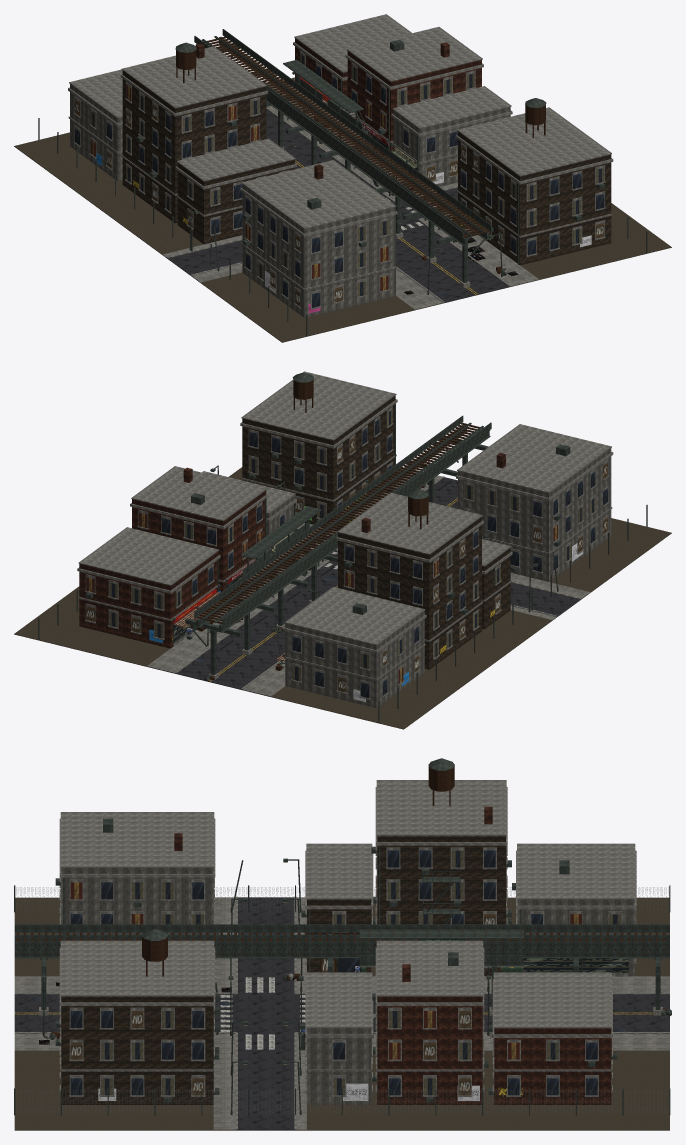
Rendered from ShackletonAve.fbx.
The picture shows the model from 3 angles, top to bottom: view 1: azimuth 30°, elevation 25°; view 2: azimuth 150°, elevation 25°; view 3: azimuth 270°, elevation 25°; orthographic projection. The views are drawn at different scales.
Parts seen in each view (by area): view 1: Bldg_GenericW, Bldg_GenericE, Bldg_Apartment2, Gnd_Lot, Rail_Deck, Bldg_BarberShop, Bldg_Bar, Bldg_Cafe, Gnd_Road, Bldg_Restaurant, Bldg_Supermarket, Gnd_CrossRoad (+7 smaller); view 2: Bldg_GenericW, Bldg_Apartment2, Bldg_GenericE, Gnd_Lot, Bldg_Restaurant, Bldg_Supermarket, Rail_Deck, Bldg_BarberShop, Gnd_Road, Bldg_Bar, Gnd_SidewalkEN, Rail_Platform (+7 smaller); view 3: Bldg_GenericE, Gnd_Lot, Bldg_Apartment2, Bldg_GenericW, Bldg_BarberShop, Rail_Deck, Bldg_Supermarket, Bldg_Restaurant, Gnd_CrossRoad, Bldg_Cafe, Gnd_Road, Bldg_Bar (+12 smaller).
Part boxes in pixels (x1=…): Bldg_GenericW: x1=240, y1=160, x2=397, y2=317; Bldg_GenericE: x1=456, y1=98, x2=613, y2=265; Bldg_Apartment2: x1=120, y1=42, x2=268, y2=223; Gnd_Lot: x1=14, y1=77, x2=671, y2=342; Rail_Deck: x1=194, y1=29, x2=493, y2=258; Bldg_BarberShop: x1=345, y1=27, x2=483, y2=170; Bldg_Bar: x1=175, y1=138, x2=296, y2=244; Bldg_Cafe: x1=384, y1=86, x2=512, y2=188; Gnd_Road: x1=266, y1=109, x2=509, y2=302; Bldg_Restaurant: x1=68, y1=69, x2=122, y2=180; Bldg_Supermarket: x1=286, y1=14, x2=411, y2=108; Gnd_CrossRoad: x1=167, y1=187, x2=457, y2=274; Bldg_GenericW: x1=456, y1=424, x2=613, y2=581; Bldg_Apartment2: x1=336, y1=489, x2=483, y2=669; Bldg_GenericE: x1=240, y1=371, x2=397, y2=524; Gnd_Lot: x1=14, y1=467, x2=671, y2=729; Bldg_Restaurant: x1=276, y1=587, x2=426, y2=708; Bldg_Supermarket: x1=77, y1=527, x2=220, y2=648; Rail_Deck: x1=185, y1=415, x2=491, y2=650; Bldg_BarberShop: x1=130, y1=466, x2=268, y2=595; Gnd_Road: x1=176, y1=477, x2=457, y2=689; Bldg_Bar: x1=482, y1=539, x2=512, y2=629; Gnd_SidewalkEN: x1=147, y1=556, x2=326, y2=672; Rail_Platform: x1=240, y1=506, x2=321, y2=580; Bldg_GenericE: x1=55, y1=928, x2=219, y2=1104; Gnd_Lot: x1=14, y1=897, x2=669, y2=1130; Bldg_Apartment2: x1=371, y1=758, x2=511, y2=976; Bldg_GenericW: x1=55, y1=812, x2=219, y2=934; Bldg_BarberShop: x1=372, y1=940, x2=488, y2=1104; Rail_Deck: x1=14, y1=924, x2=669, y2=981; Bldg_Supermarket: x1=488, y1=972, x2=617, y2=1104; Bldg_Restaurant: x1=512, y1=843, x2=636, y2=976; Gnd_CrossRoad: x1=237, y1=897, x2=295, y2=1130; Bldg_Cafe: x1=305, y1=972, x2=376, y2=1104; Gnd_Road: x1=14, y1=994, x2=669, y2=1033; Bldg_Bar: x1=301, y1=843, x2=376, y2=972.
Size of the model in its own units: 47 by 17.7 by 56.23.
